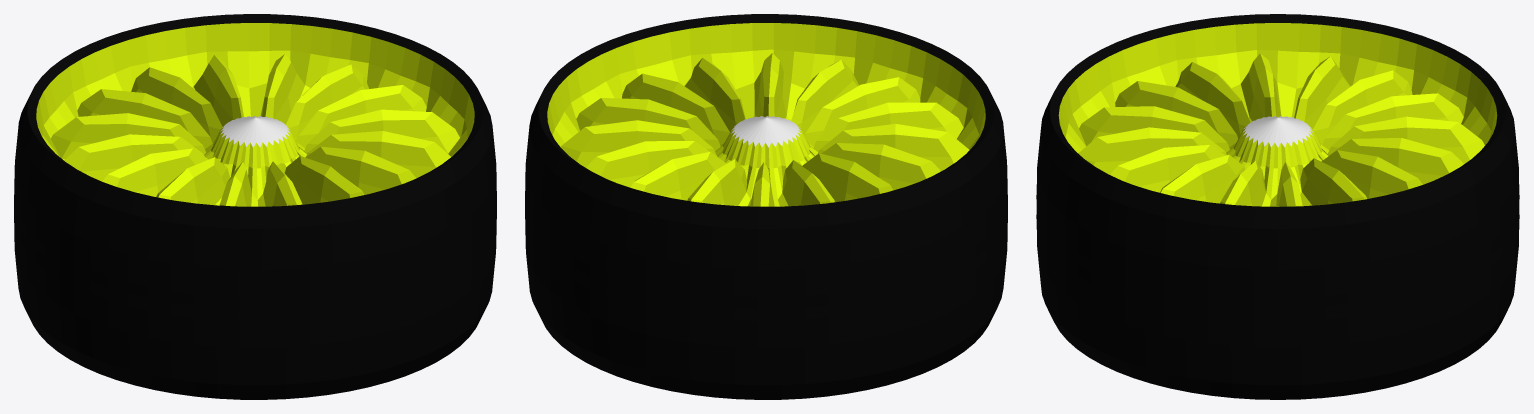
Rendered from tire.glb.
3 views of the same model, side by side, from view 1: azimuth 30°, elevation 25°; view 2: azimuth 150°, elevation 25°; view 3: azimuth 270°, elevation 25° (orthographic).
Visible parts, largest first — view 1: Cylinder; view 2: Cylinder; view 3: Cylinder.
Part boxes in pixels (bbox=[...]): Cylinder: bbox=[14, 14, 496, 399]; Cylinder: bbox=[525, 14, 1007, 399]; Cylinder: bbox=[1036, 14, 1519, 399].
Bounding box in the file's own units: 1.99 × 0.8766 × 1.99.
